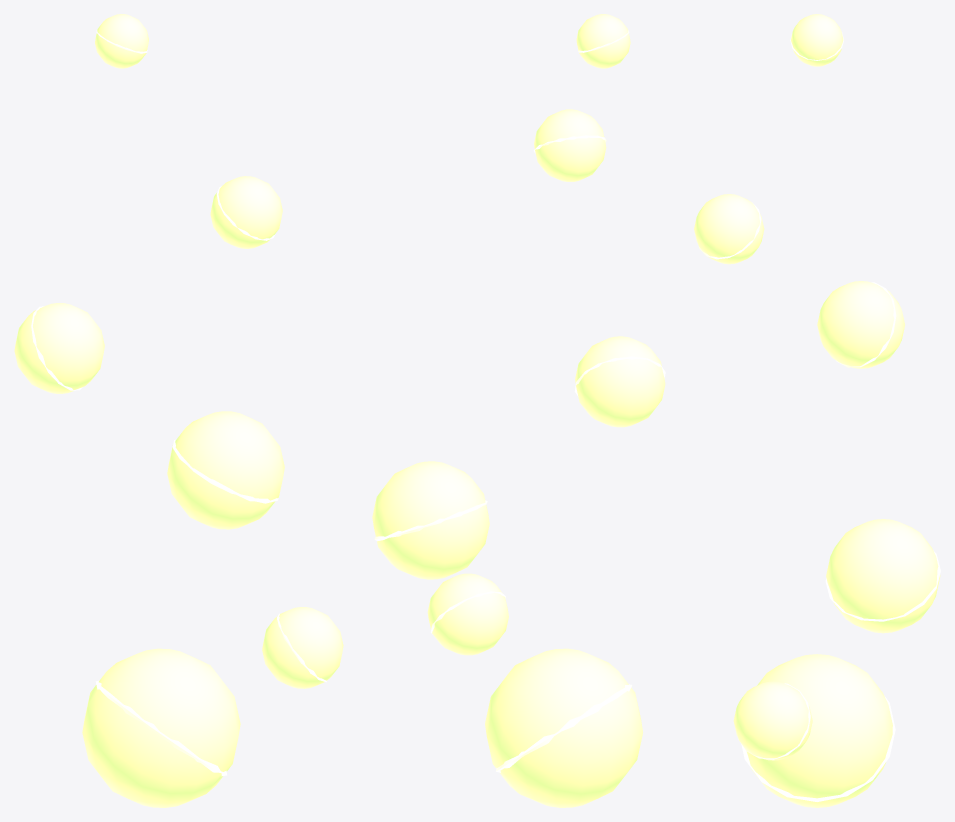
Rendered from manor_bubbles.glb.
3 renders of one model, left to right at view 1: azimuth 30°, elevation 25°; view 2: azimuth 150°, elevation 25°; view 3: azimuth 270°, elevation 25°, orthographic. The views are drawn at different scales.
Visible parts, largest first — view 1: Bubbles; view 2: Bubbles; view 3: Bubbles.
Part boxes in pixels (x1=…): Bubbles: x1=14, y1=14, x2=343, y2=807; Bubbles: x1=372, y1=14, x2=665, y2=807; Bubbles: x1=694, y1=14, x2=940, y2=807.
Size of the model in its own units: 0.138 by 0.384 by 0.1122.
